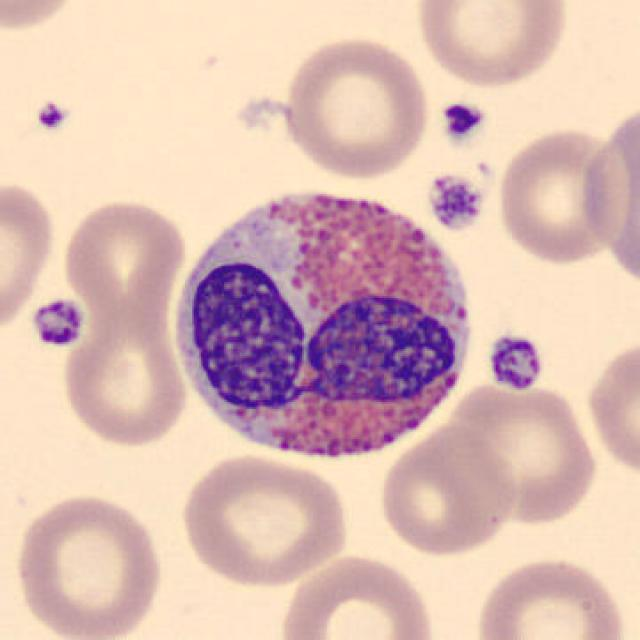Eosinophil: (160, 160, 487, 476)
Platelets: (483, 330, 548, 395), (425, 171, 489, 233), (29, 294, 87, 351), (437, 97, 489, 146), (30, 97, 71, 136)
RBC: (174, 451, 354, 589), (9, 488, 167, 640), (444, 379, 601, 527), (279, 32, 432, 180), (375, 421, 519, 559), (492, 122, 624, 268), (57, 194, 188, 340), (57, 318, 192, 450), (410, 0, 572, 90), (277, 552, 439, 640), (471, 552, 631, 640), (576, 102, 640, 279), (0, 174, 60, 340), (583, 334, 640, 482), (0, 0, 87, 35)
